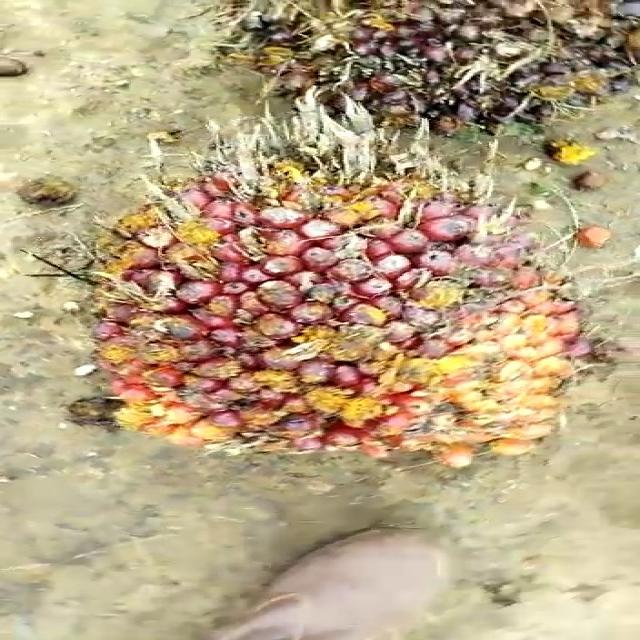palm oil: (63, 128, 626, 480)
